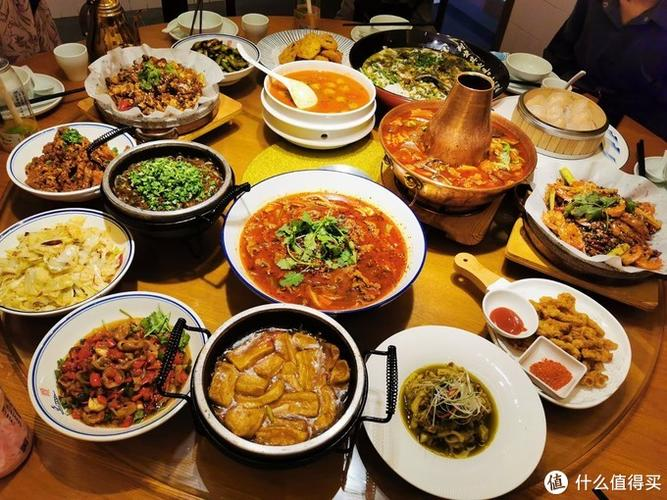food: (217, 164, 423, 318), (185, 293, 363, 465), (370, 316, 535, 495), (377, 82, 538, 234), (35, 289, 195, 441), (474, 272, 631, 408), (1, 204, 136, 326), (533, 156, 656, 287), (103, 130, 243, 231), (349, 23, 502, 108), (86, 36, 220, 129), (259, 53, 377, 148), (12, 113, 132, 204)
